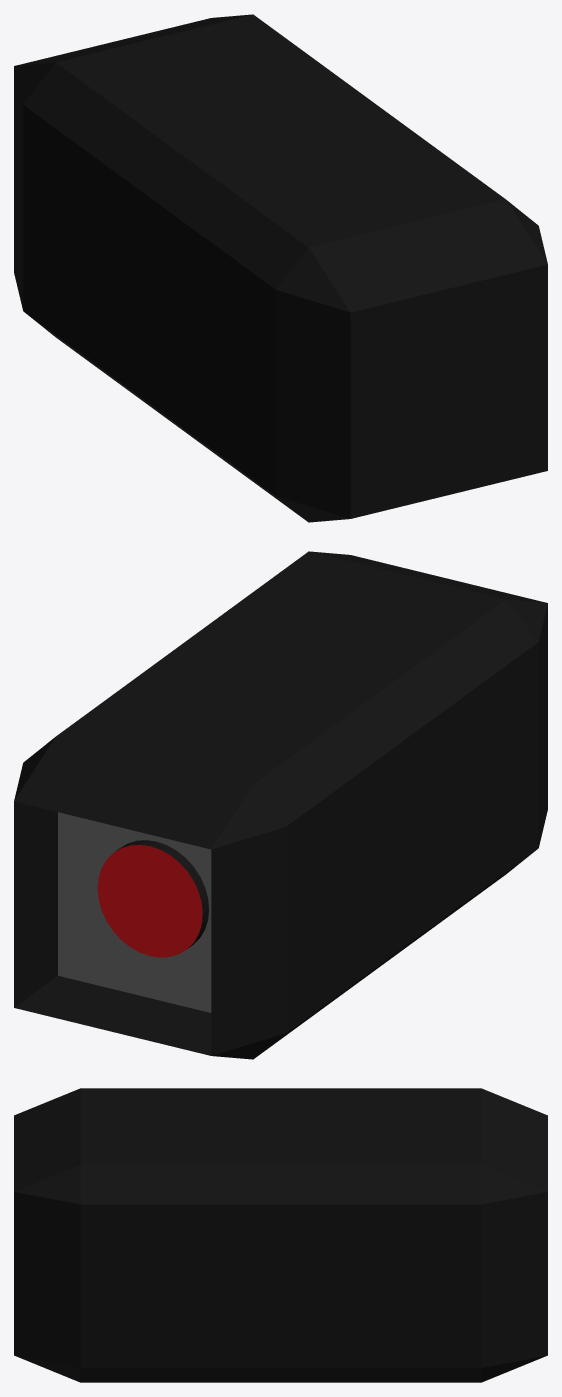
The model's file is cameranight.obj.
The picture shows the model from 3 angles, top to bottom: view 1: azimuth 30°, elevation 25°; view 2: azimuth 150°, elevation 25°; view 3: azimuth 270°, elevation 25°; orthographic projection. The views are drawn at different scales.
Visible parts, largest first — view 1: Cube; view 2: Cube; view 3: Cube.
Part boxes in pixels (box(x1,y1,x2,y2)): Cube: box(14, 14, 547, 522); Cube: box(14, 551, 547, 1059); Cube: box(14, 1088, 547, 1382).
Size of the model in its own units: 2 by 2 by 4.44.
